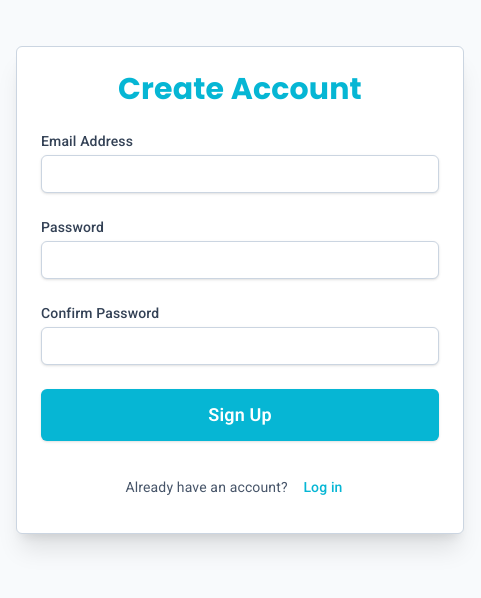
Test case: SignupPage › displays "Failed to create an account" error with role="alert" on general signup failure
Type "testvalid@example.com" into the field labelled "Email Address" at {"x": 240, "y": 174}, box [41,155,439,193]
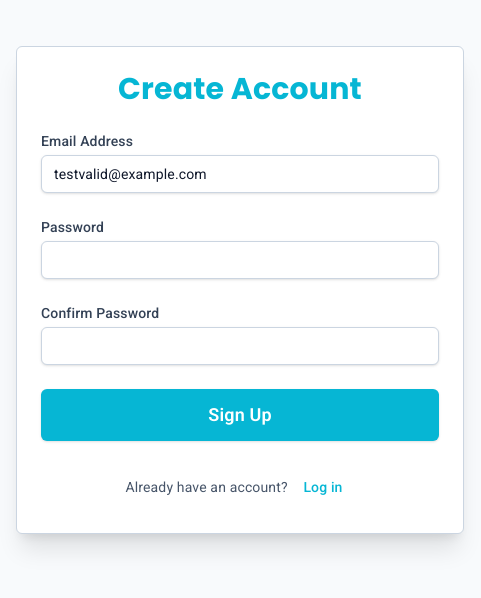
Type "password123" into the password field labelled "Password" at {"x": 240, "y": 260}, box [41,241,439,279]
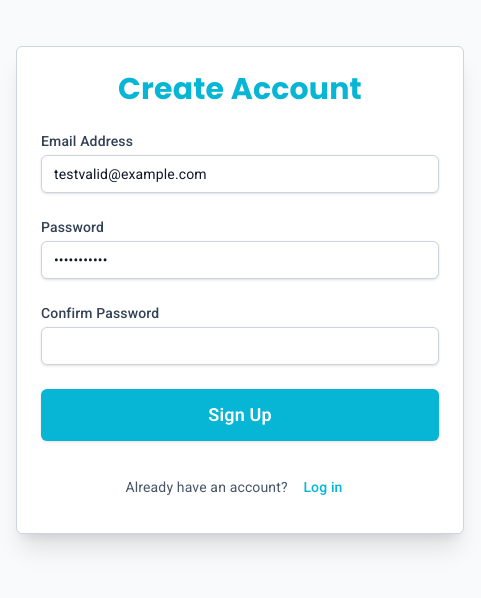
Type "password123" into the password field labelled "Confirm Password" at {"x": 240, "y": 346}, box [41,327,439,365]
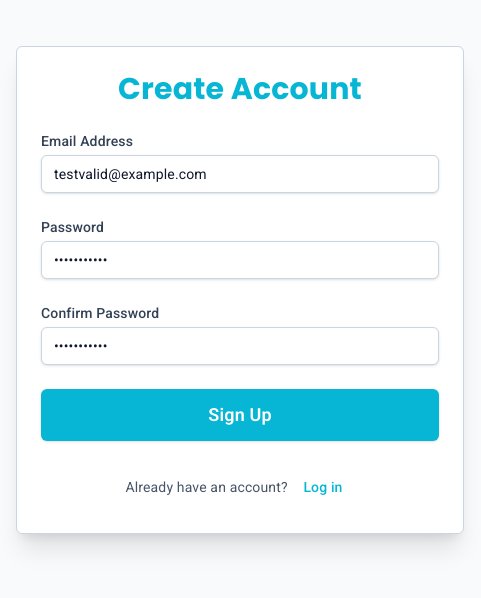
Click the button "Sign Up" at {"x": 240, "y": 415}, box [41,389,439,441]
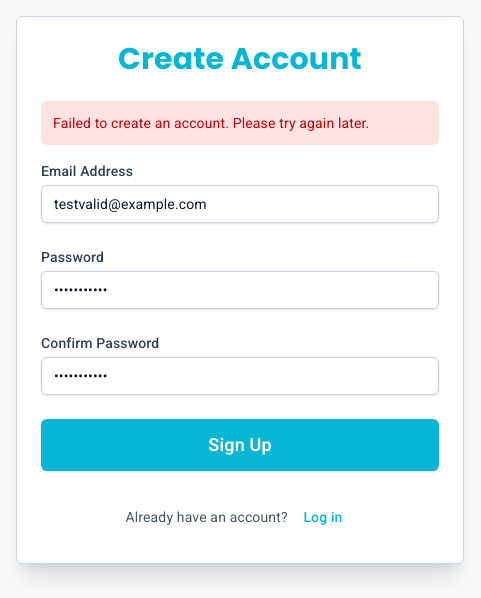
Now the text "Failed to create an account. Please try again later." is shown, box [41,101,439,145]
